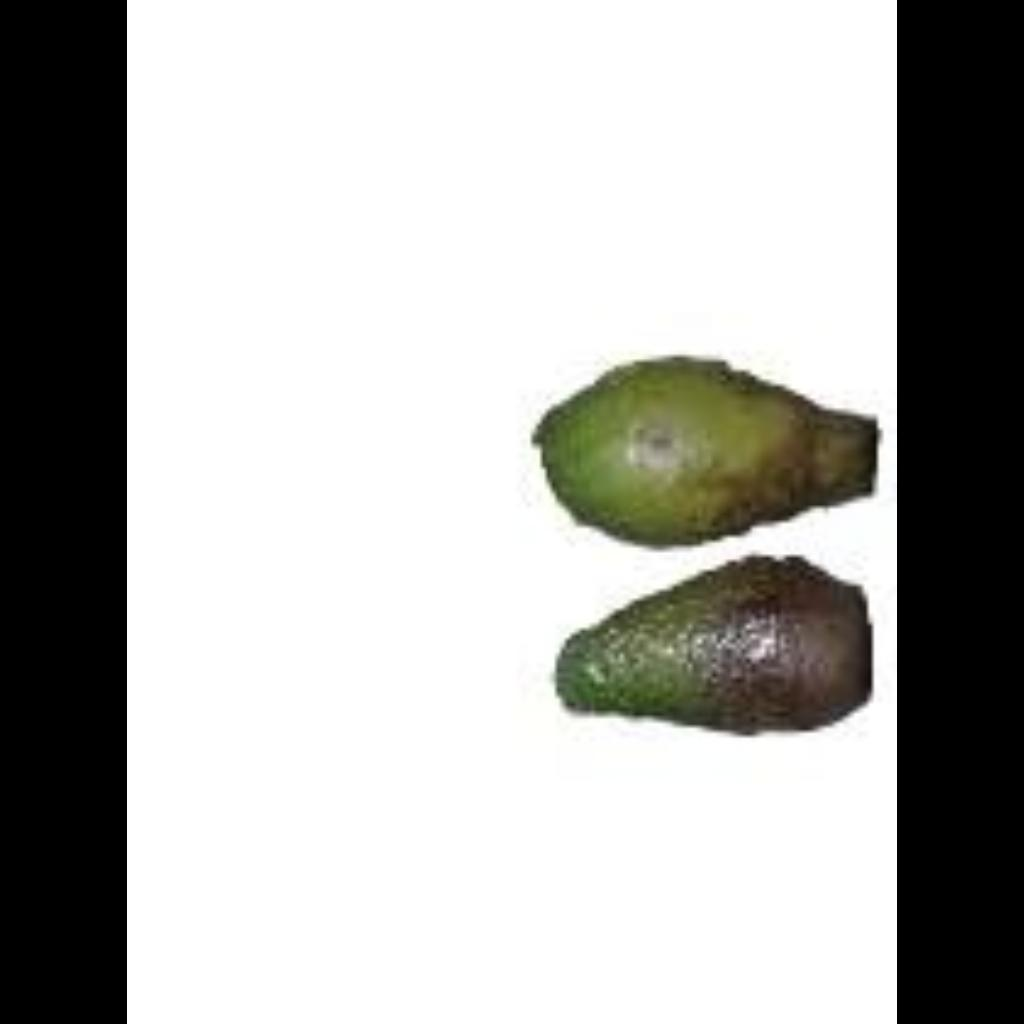antracnosis_fruto: (492, 365, 877, 751)
